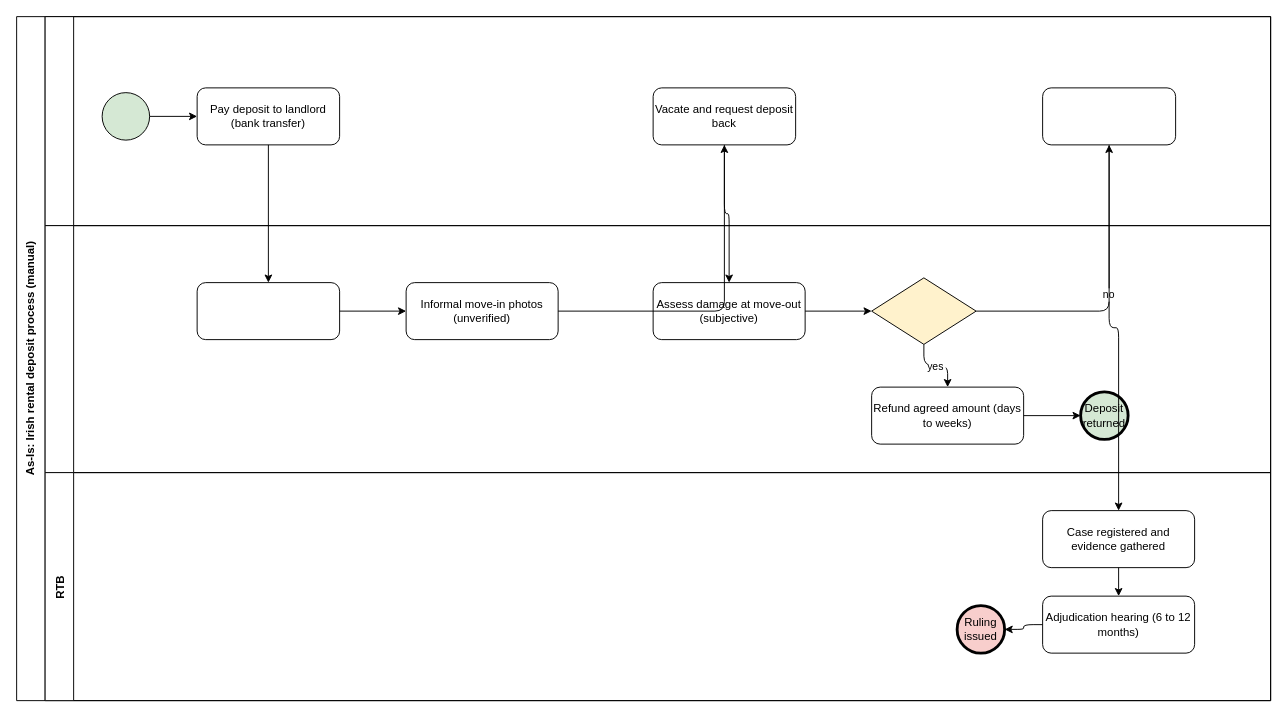
Some shapes in this 1287 by 717 pixel diagram are drawn without their labels. The shapes that lost their labels are listed below. From the top down, each one's box as (x1, y1, x2, y2) in pixels, then its label:
(101, 92, 150, 140): Tenancy agreed
(44, 16, 1271, 226): Tenant
(1042, 87, 1176, 145): Lodge dispute with RTB
(196, 282, 340, 340): Hold deposit in personal account
(871, 277, 976, 344): Agree on split?
(44, 225, 1271, 473): Landlord
